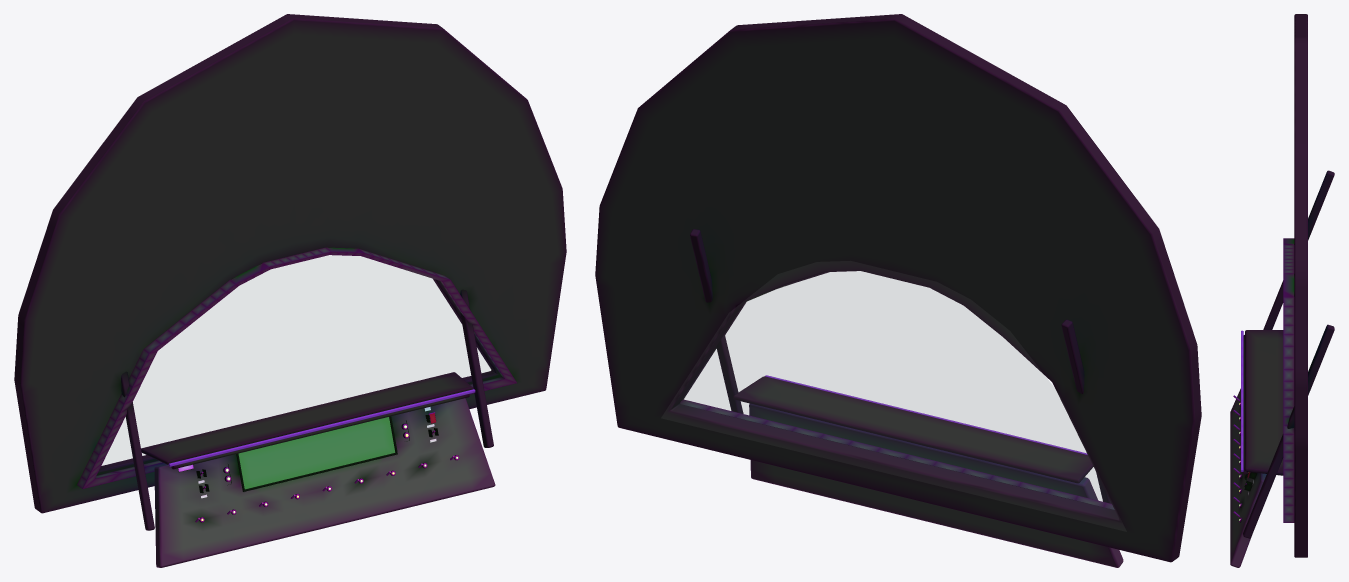
The model's file is canopy.glb.
3 renders of one model, left to right at view 1: azimuth 30°, elevation 25°; view 2: azimuth 150°, elevation 25°; view 3: azimuth 270°, elevation 25°, orthographic. The views are drawn at different scales.
Visible parts, largest first — view 1: static.paint_dark, glass.canopy, static.paint, static.rubber, static.screen.pcd, static.trim, static.vinyl; view 2: static.paint_dark, glass.canopy, static.paint, static.rubber; view 3: static.paint_dark, static.paint, static.rubber, static.trim, static.vinyl, static.steel.
Boxes of the visible parts, x1,y1,x2,y2 form: static.paint_dark: (14,14,566,530); glass.canopy: (102,255,490,464); static.paint: (77,247,516,567); static.rubber: (141,372,472,464); static.screen.pcd: (238,417,395,489); static.trim: (168,389,475,466); static.vinyl: (171,394,469,469); static.paint_dark: (595,14,1201,562); glass.canopy: (662,261,1125,530); static.paint: (680,302,1123,567); static.rubber: (733,376,1093,483); static.paint_dark: (1240,14,1334,557); static.paint: (1230,238,1294,567); static.rubber: (1245,330,1283,475); static.trim: (1241,330,1243,471); static.vinyl: (1242,335,1248,474); static.steel: (1233,395,1250,521).
Size of the model in its own units: 2.15 by 1.82 by 0.3807.
